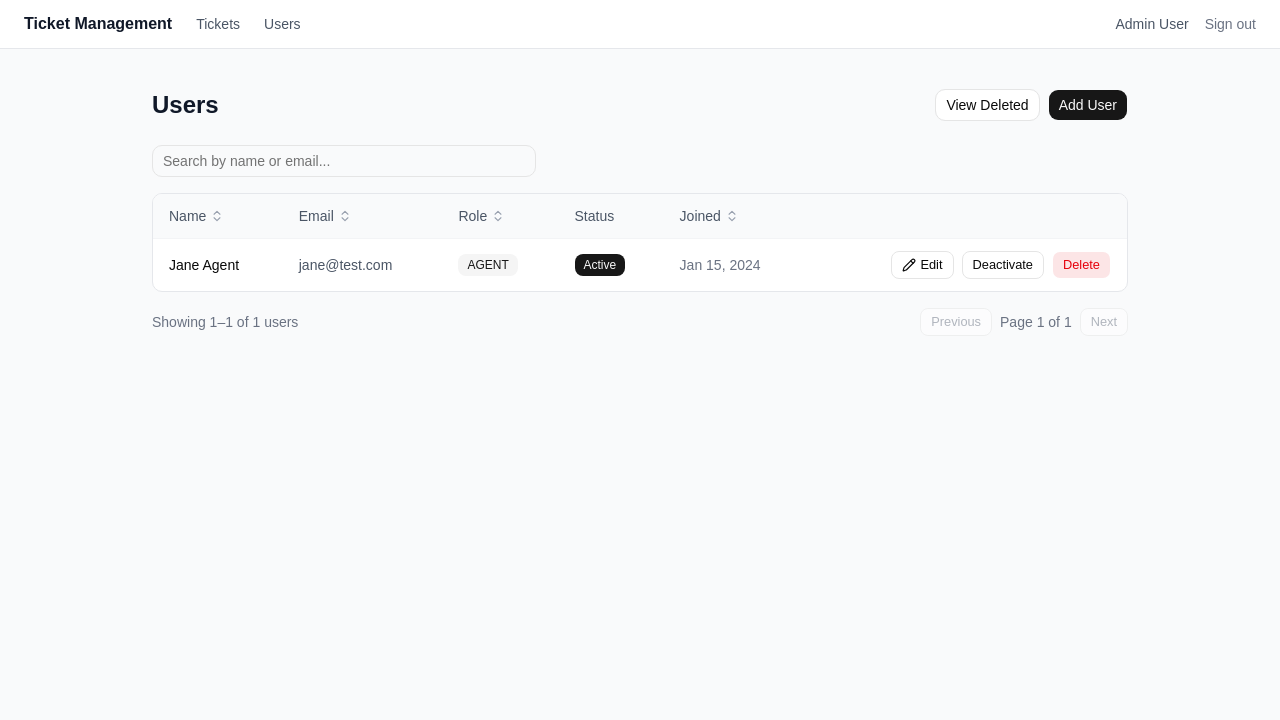
Test case: UsersPage › Edit User dialog › closes when Escape is pressed
The image size is (1280, 720).
Check: the text "Jane Agent" is shown, box x1=153 y1=238 x2=283 y2=291
Click the button "Edit".
click(923, 265)  # box x1=892 y1=251 x2=954 y2=279
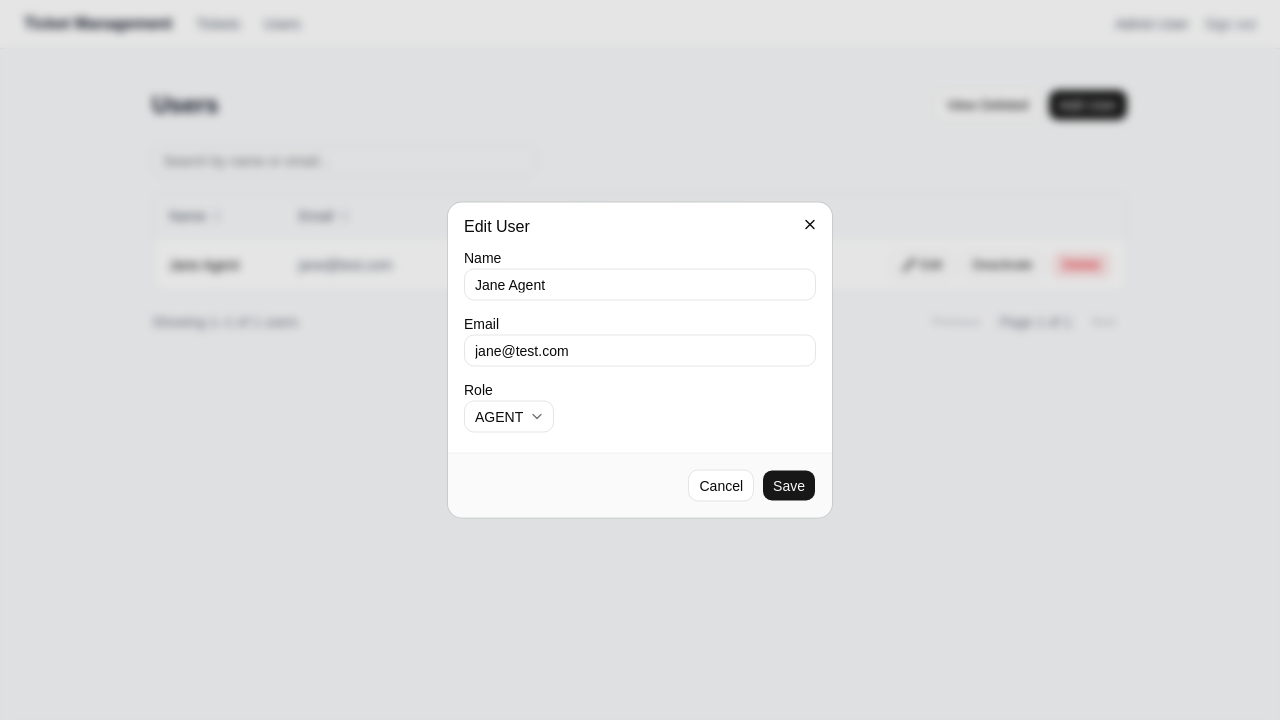
Check: the heading "Edit User" is shown, box x1=464 y1=218 x2=530 y2=234
Press Escape
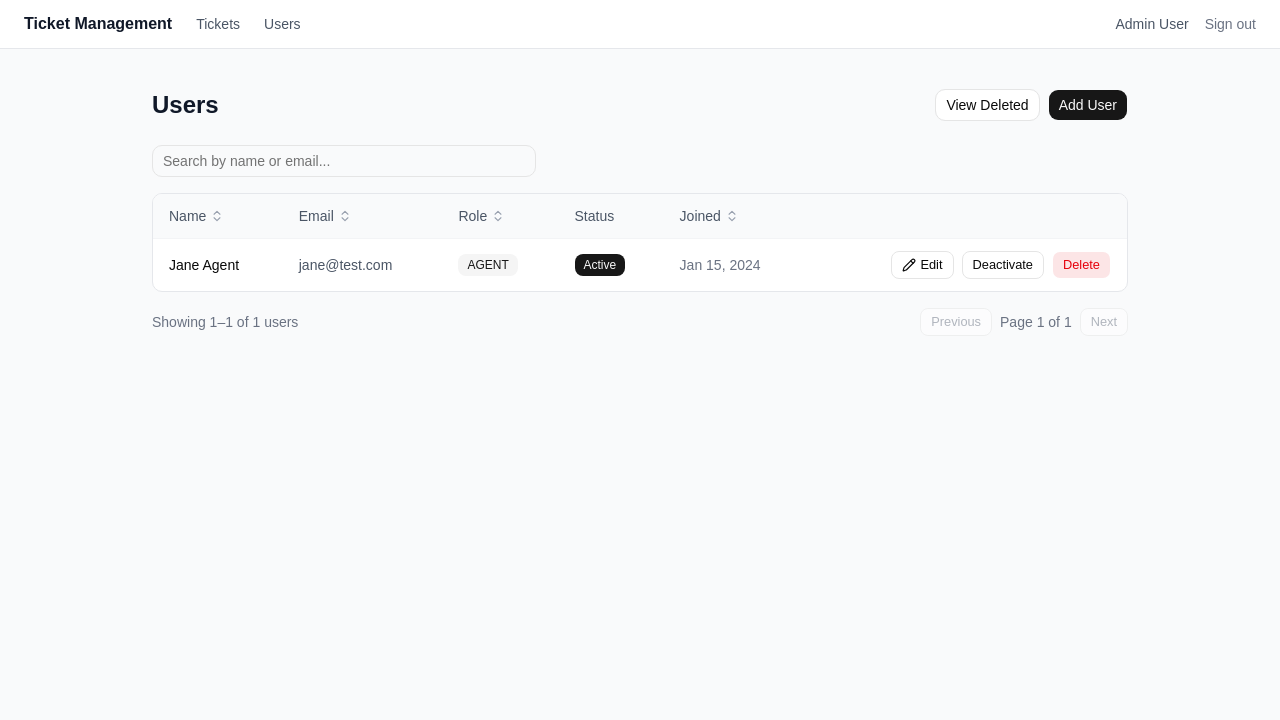
Check: the heading "Edit User" is gone
